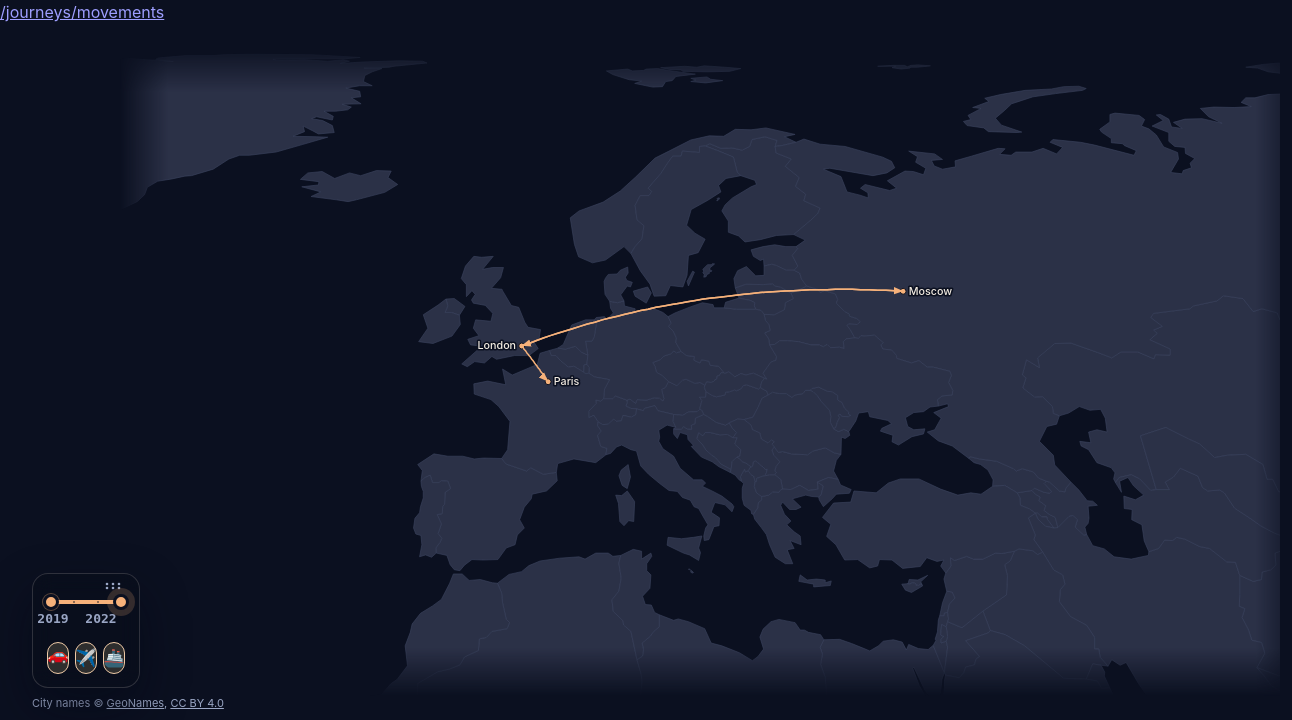
it: MovementsMapView › левый год нельзя вписать правее правого — он встаёт вровень с ним
This screenshot has width=1292, height=720.
Press Arrowleft Arrowleft
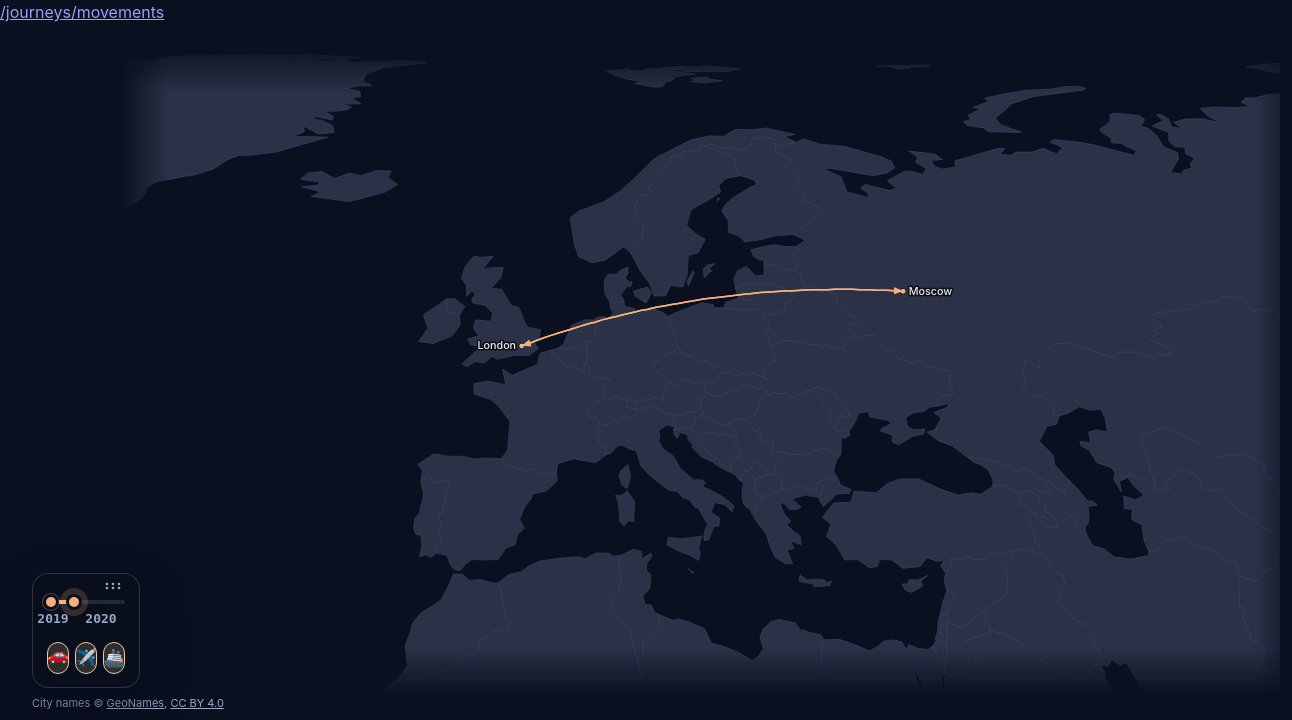
Click the button named "From year". click: [53, 618]
box: [34,610,72,627]
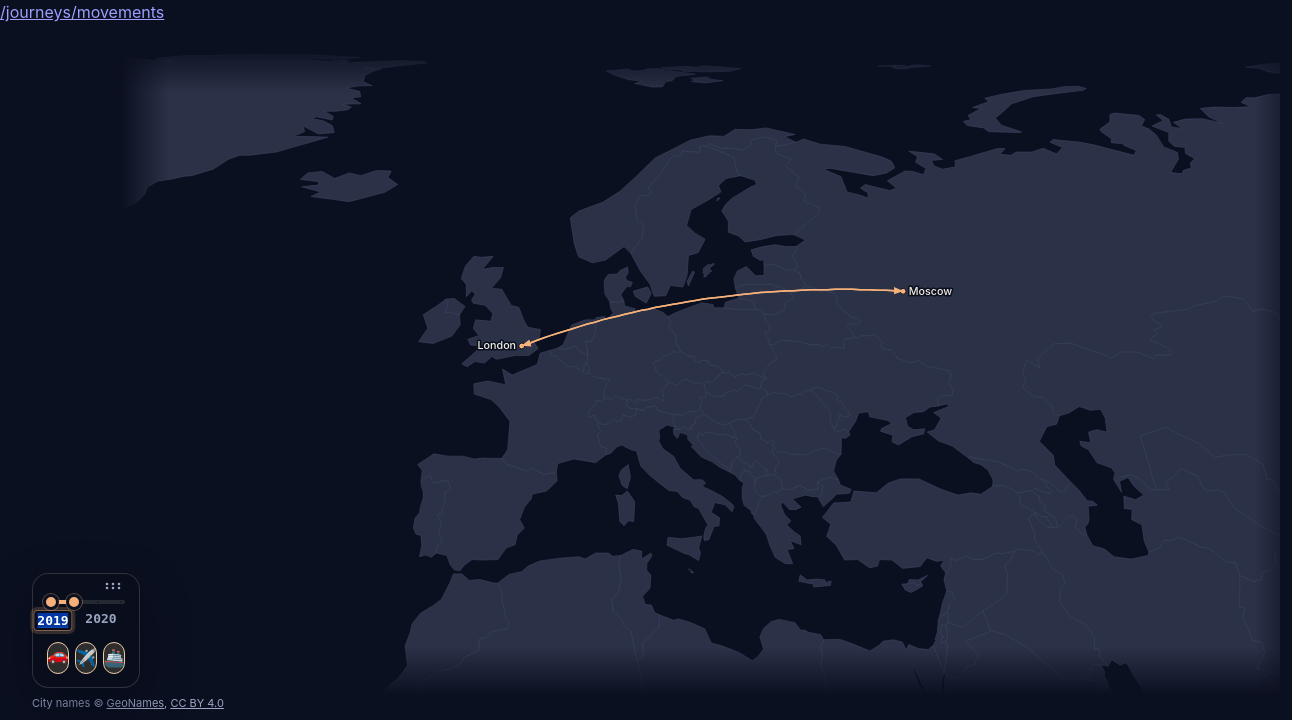
Replace the text in the field named "From year" with "2022". click: [53, 620]
box: [33,610,73,631]
Then press Enter
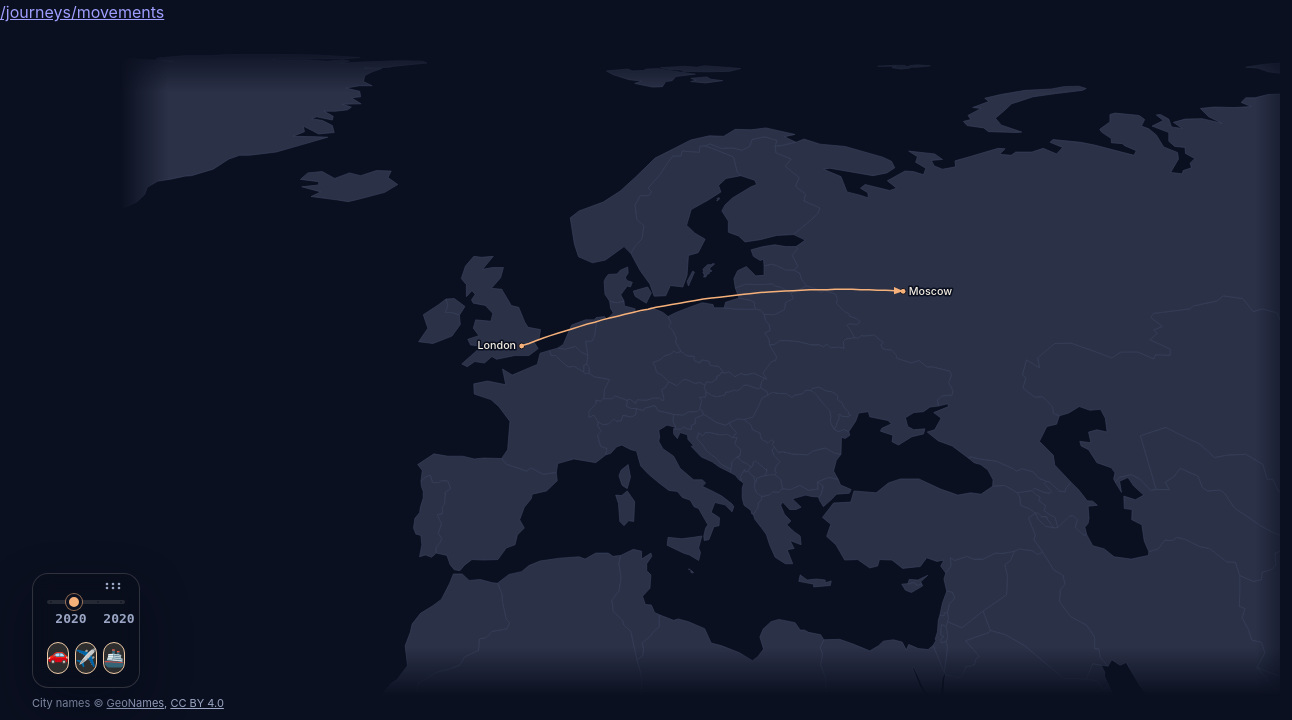
Expected: the button named "From year" reads "2020", [52,610,90,627]
